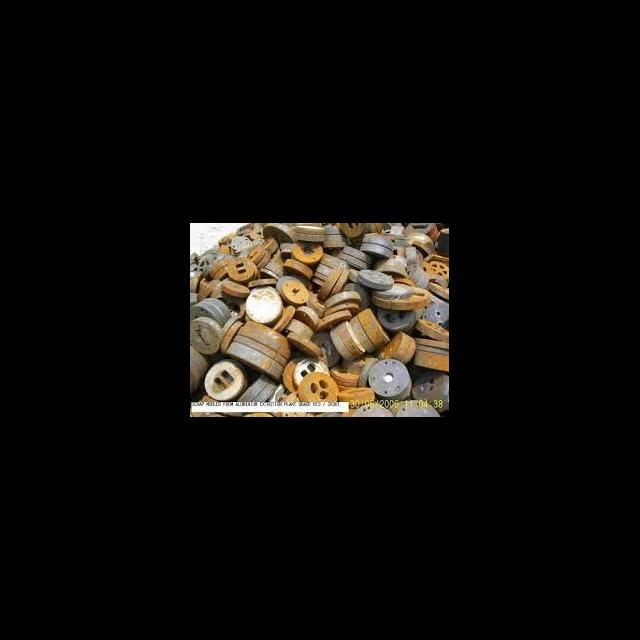metal: (225, 316, 292, 387), (328, 304, 397, 366), (198, 350, 252, 401), (364, 356, 416, 405), (368, 277, 434, 311), (296, 367, 340, 410), (190, 293, 232, 331), (242, 284, 282, 322), (282, 326, 324, 361), (356, 228, 398, 262), (228, 253, 266, 286), (352, 264, 398, 291), (190, 312, 220, 353), (288, 236, 328, 266), (412, 315, 448, 345), (280, 254, 318, 282), (278, 278, 314, 305), (202, 254, 235, 283)
